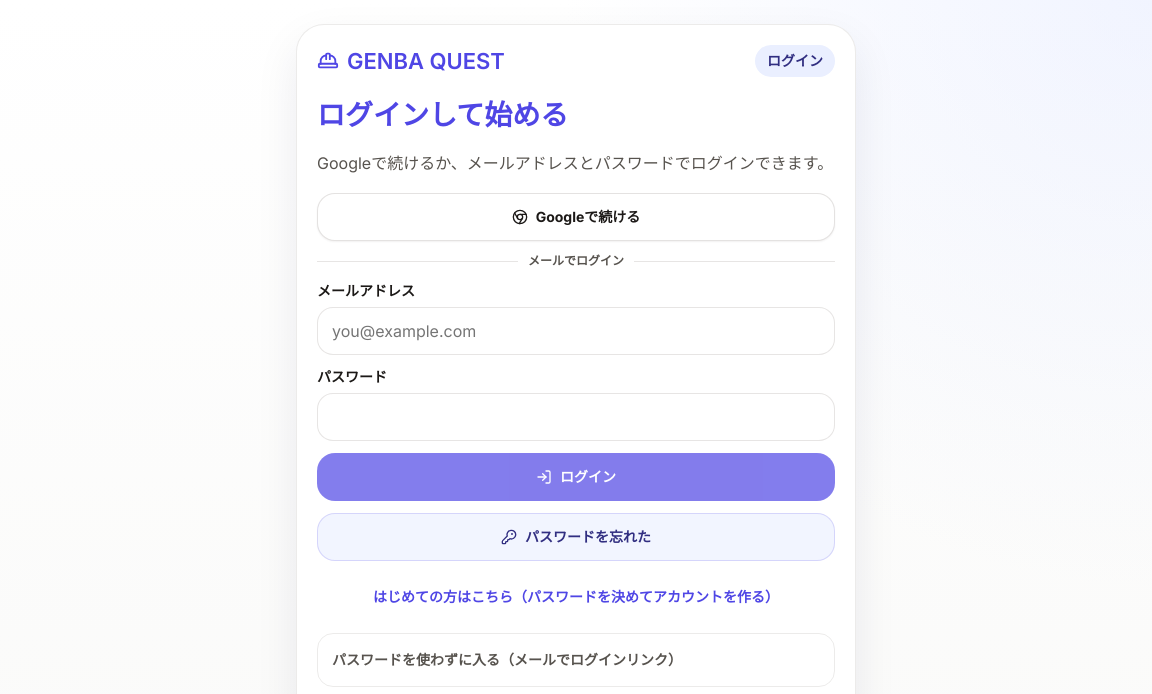
Test case: App entry gate › localizes invalid email errors on first registration
The image size is (1152, 694).
Step 1. Type "worker@example.com" into the field labelled "メールアドレス" → (576,331), box [317,307,835,355]
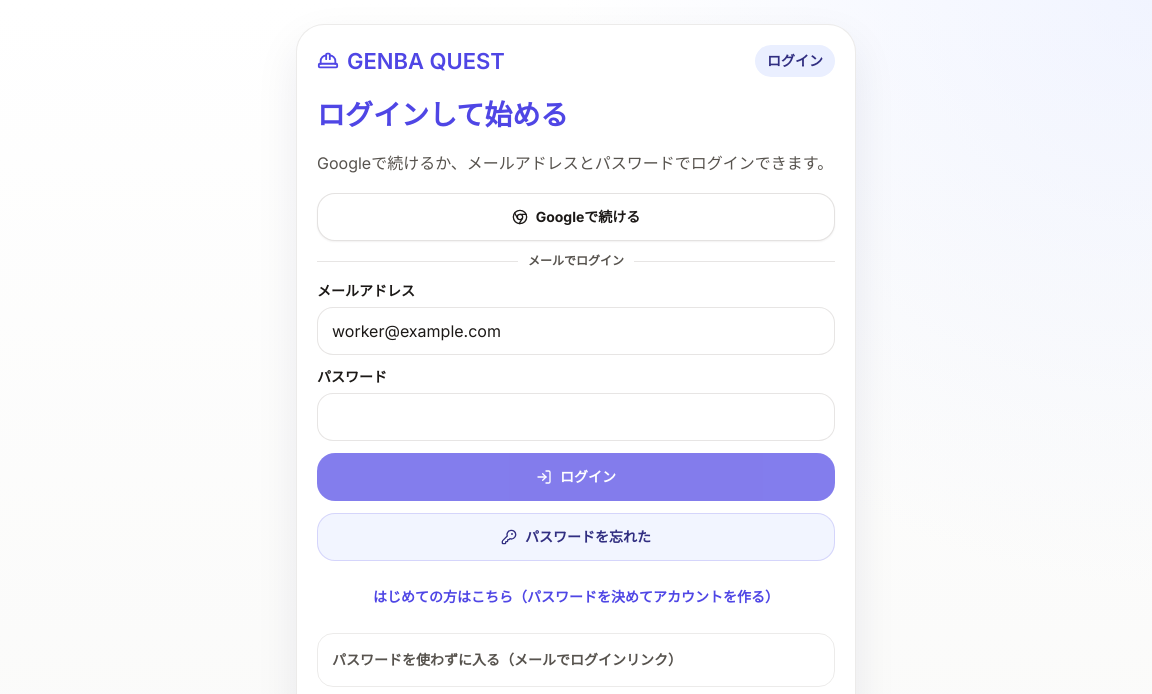
Step 2. Click the button "はじめての方はこちら（パスワードを決めてアカウントを作る）" → (576,597), box [317,573,835,621]
(page scrolled)
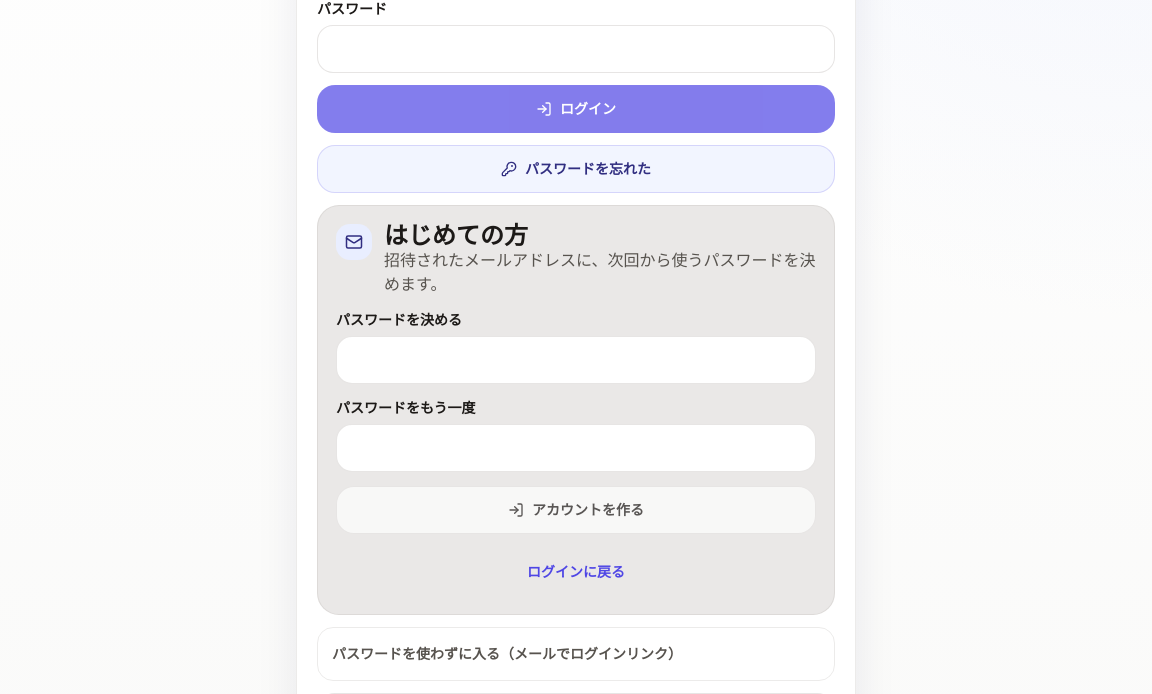
Step 3. Type "password-1234" into the password field labelled "パスワードを決める" → (576,360), box [336,336,816,384]
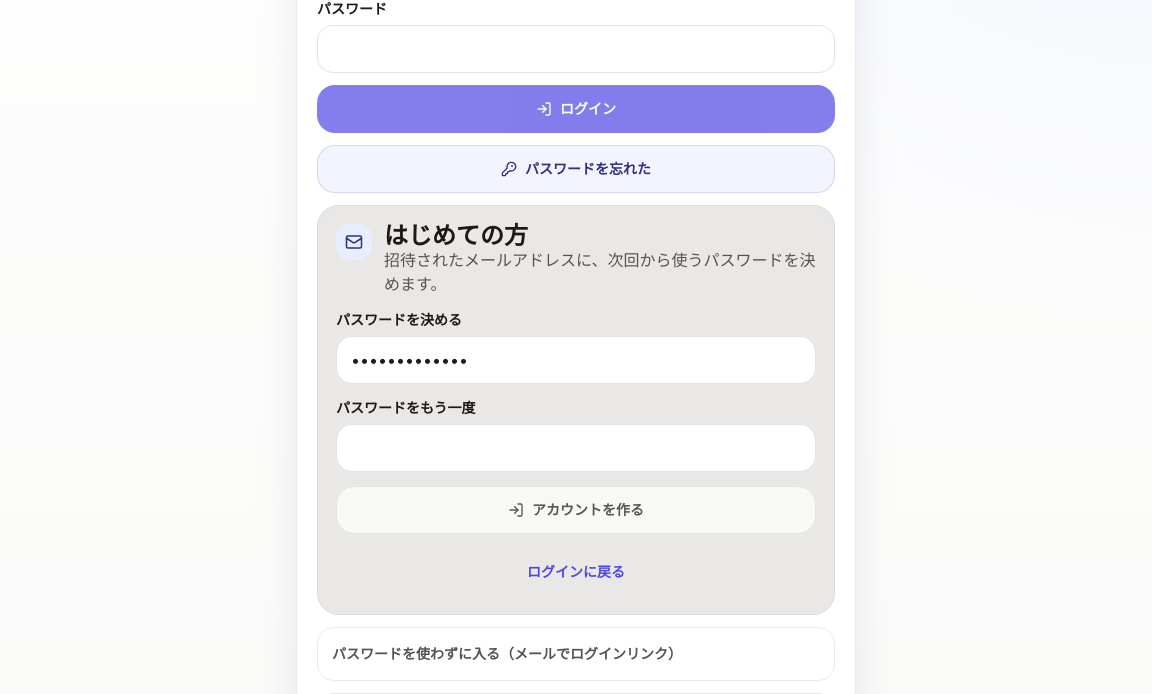
Step 4. Type "password-1234" into the password field labelled "パスワードをもう一度" → (576,448), box [336,424,816,472]
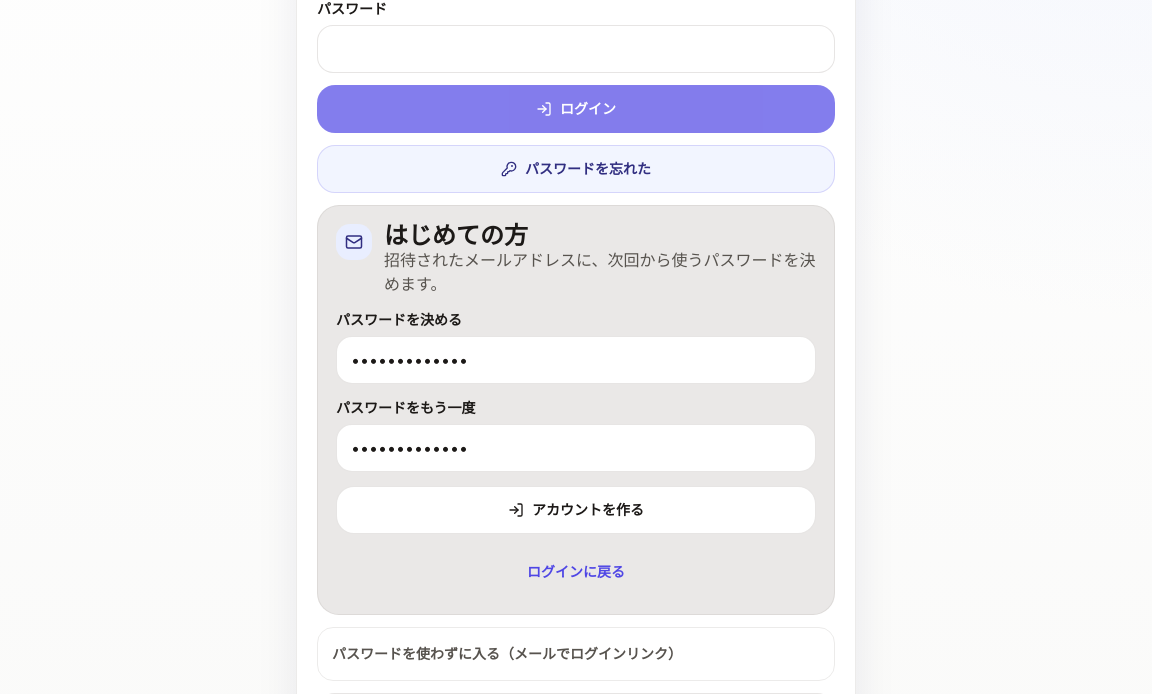
Step 5. Click the button "アカウントを作る" → (576,510), box [336,486,816,534]
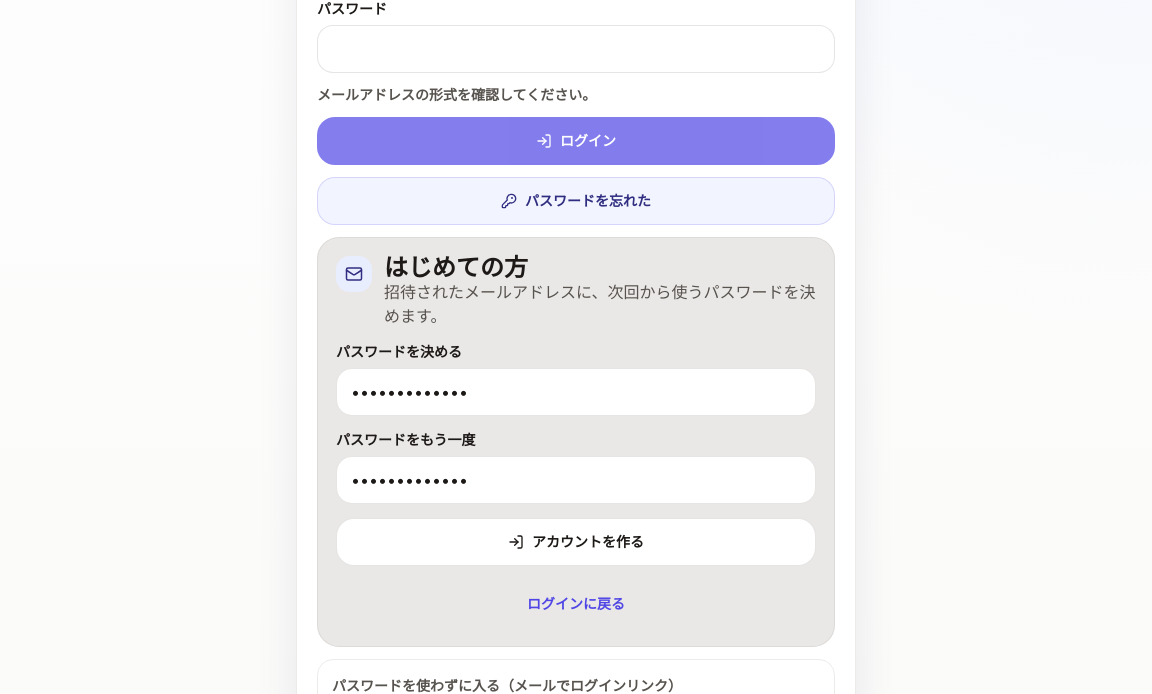
Expected: the text "メールアドレスの形式を確認してください。" is shown, [317,86,596,103]
